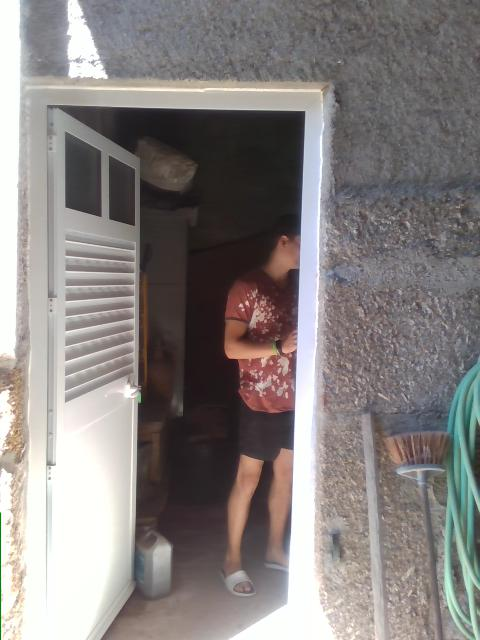open_door: (23, 84, 320, 639)
